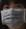with_mask: (1, 2, 26, 29)
